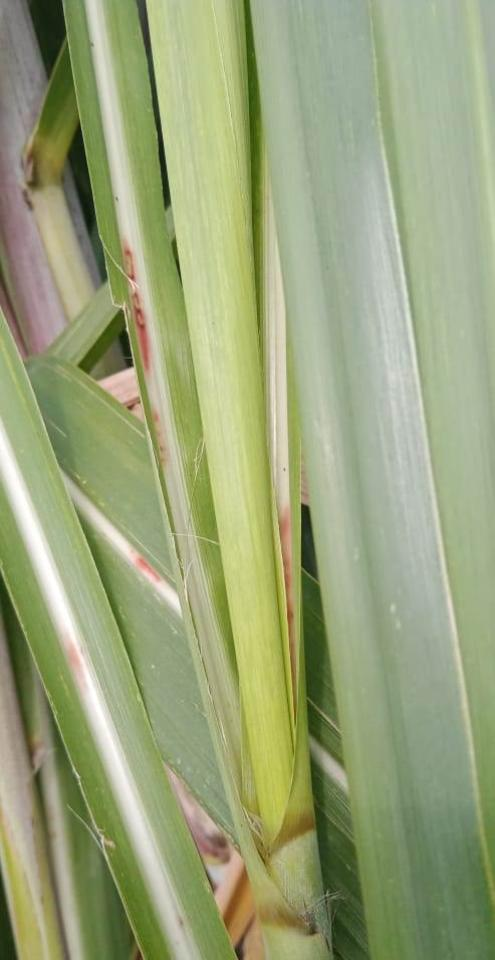RedRot: (121, 238, 153, 379), (278, 505, 297, 695), (60, 633, 91, 695), (150, 404, 172, 467), (132, 549, 162, 584)
